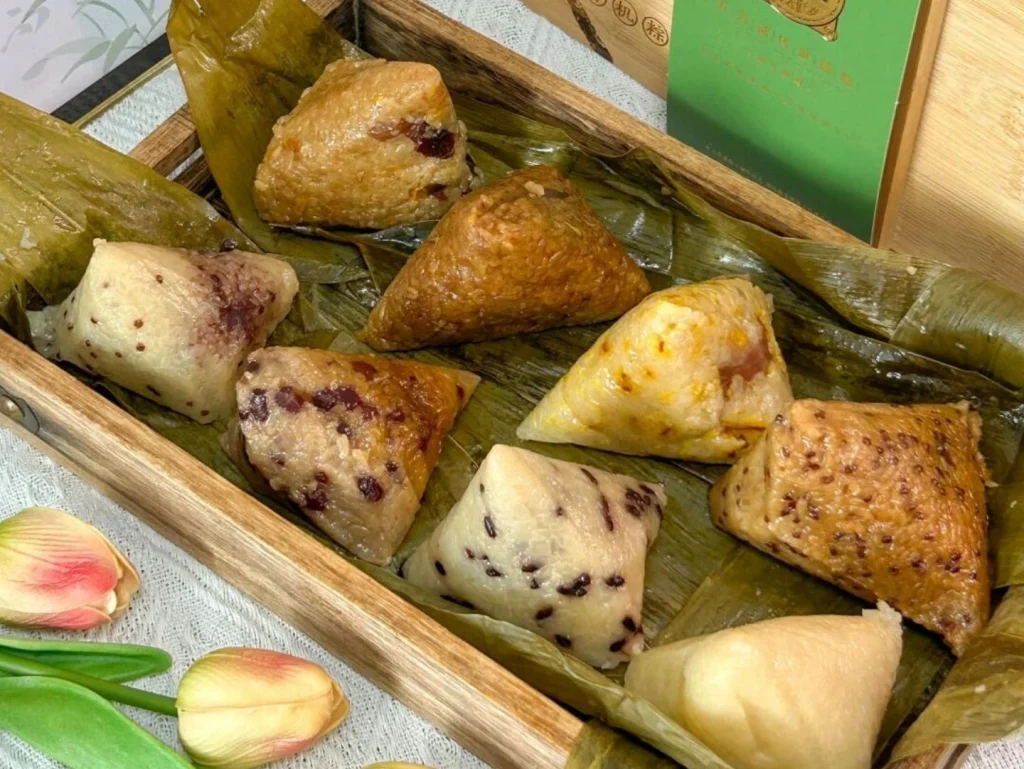zongzi: (710, 399, 991, 655), (404, 444, 666, 668), (361, 166, 650, 350), (235, 347, 478, 565), (517, 277, 792, 462), (30, 240, 298, 423), (625, 604, 900, 768), (250, 59, 473, 228)
